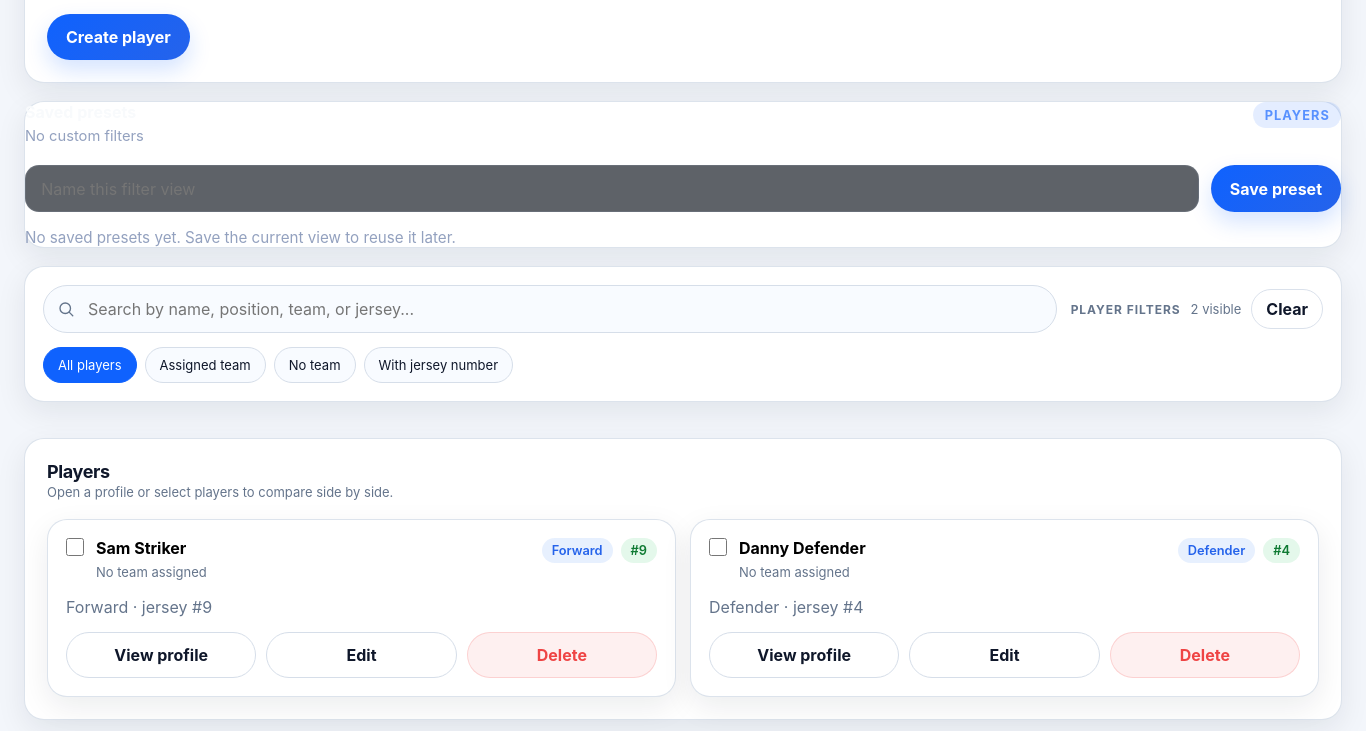
PlayersPage player comparison selection › opens the comparison panel when Compare is clicked
(page scrolled)
expect the text "Sam Striker" is shown: met, box [96,538,186,558]
Click the checkbox named "Select Sam Striker for comparison". click: (75,547)
box: [66,538,84,556]
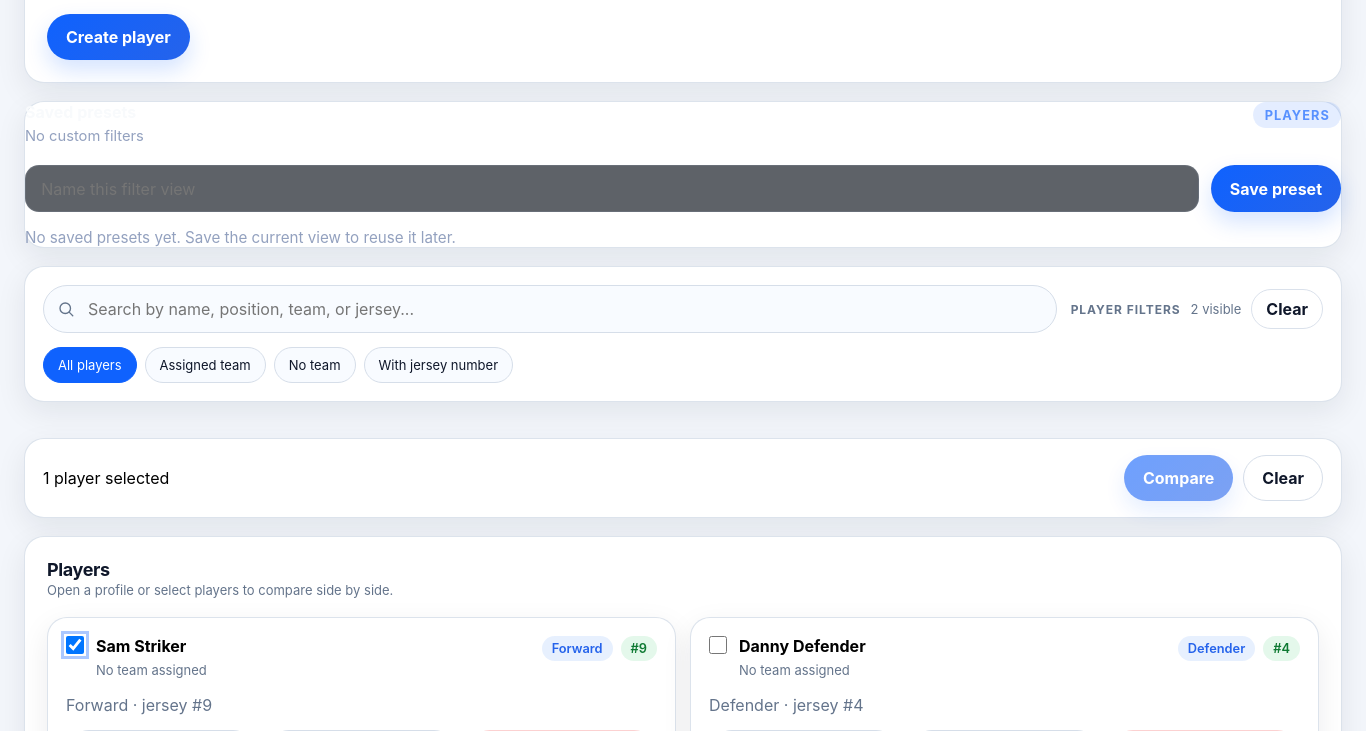
Click the checkbox named "Select Danny Defender for comparison". click: (718,645)
box: [709,636,727,654]
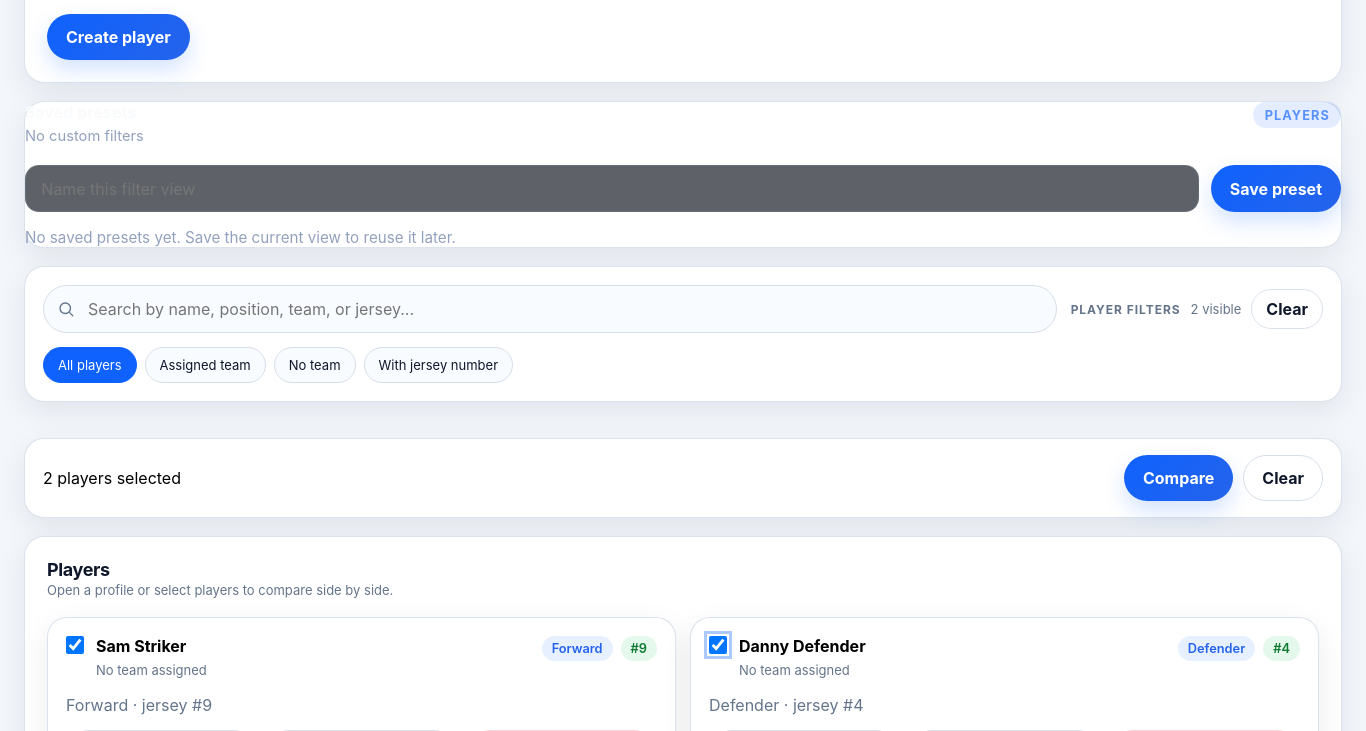
Click the button "Compare". click: (1179,478)
box: [1124,455,1233,501]
(page scrolled)
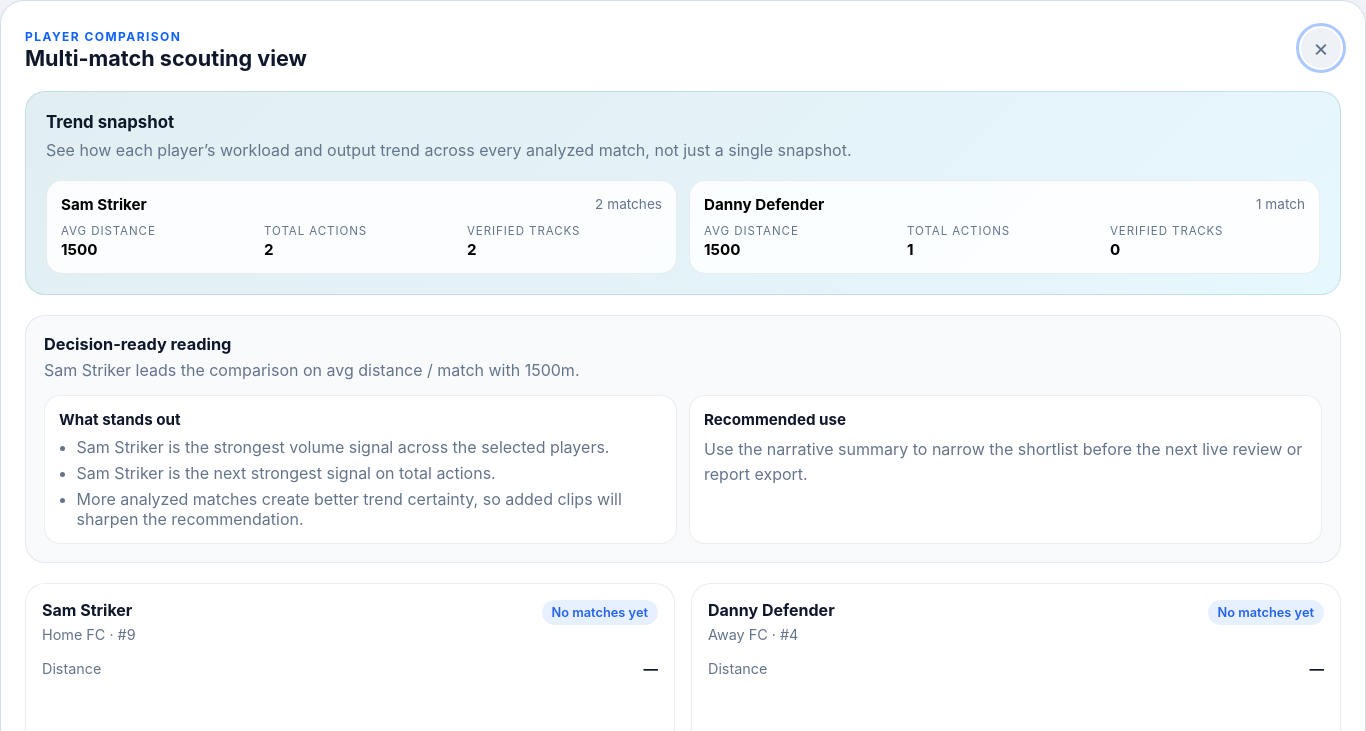
expect the text "Danny Defender" is shown: met, box [704,195,824,214]
expect the heading "Multi-match scouting view" is shown: met, box [25,45,307,71]
